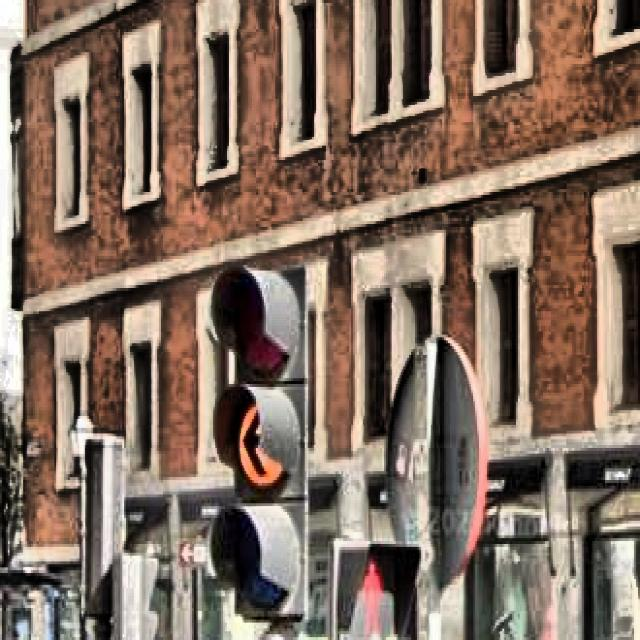yellow: (234, 278, 288, 613)
